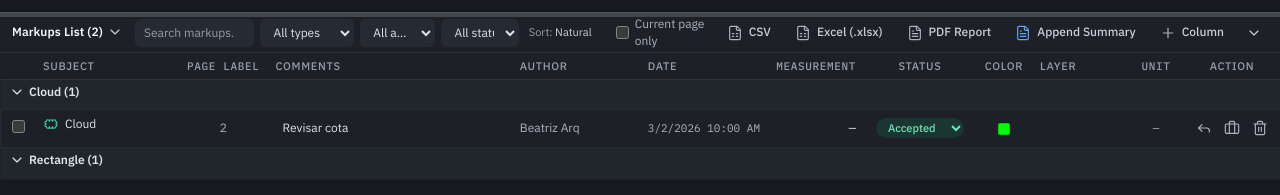
Test case: MarkupsList Context Menu (Añadir a Tool Chest B.4) › P2-C.1 Filtros, ordenación y barra de herramientas › filtra por autor en markups-filter-author
Step 1. Select "Carlos Ing" in the dropdown with test id "markups-filter-author" → coordinates (398, 32), box [360, 18, 436, 46]
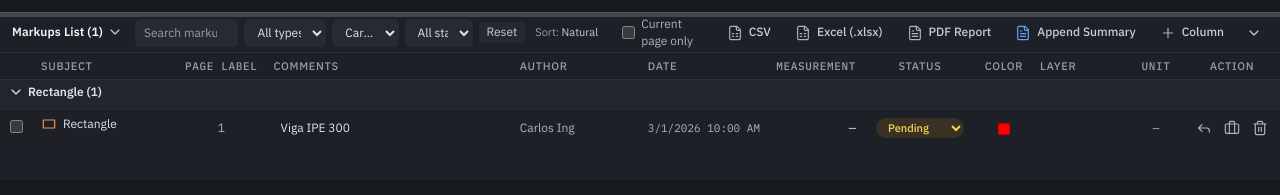
Check: the row with test id "markup-row-m-1" is shown, box [0, 110, 1279, 147]
Check: the row with test id "markup-row-m-2" is gone
